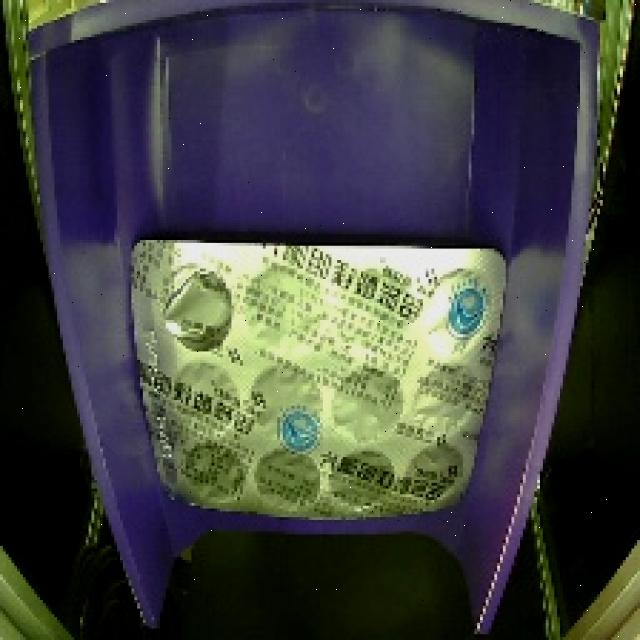med_plate: (106, 223, 528, 540)
